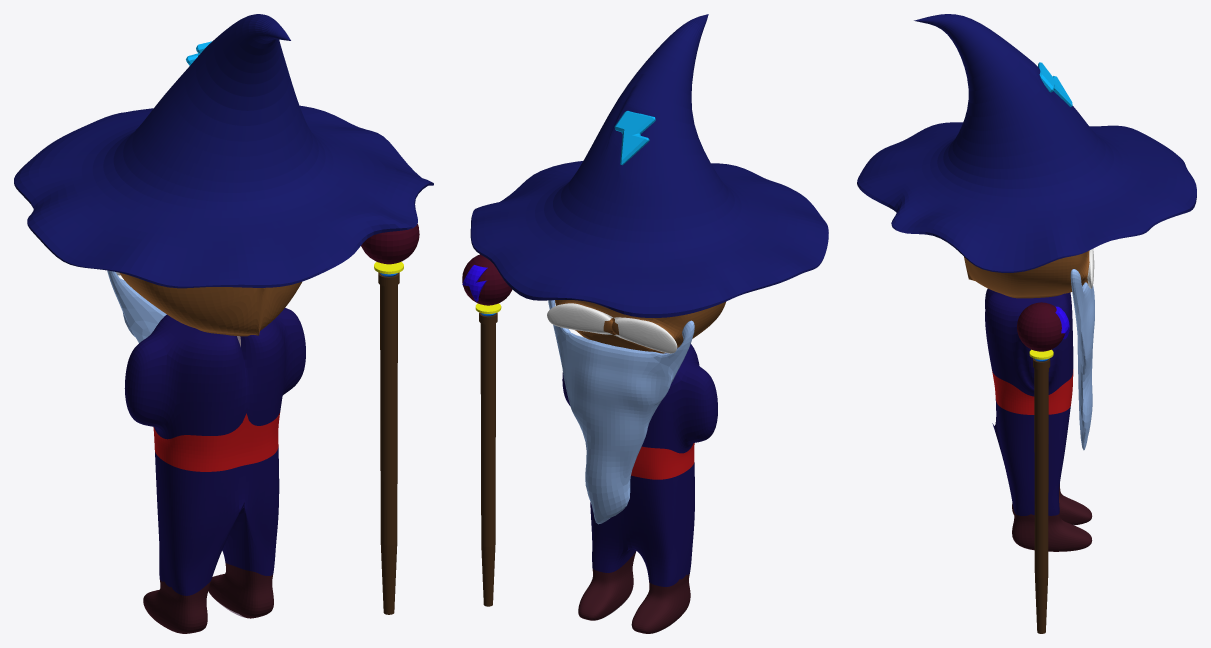
The model's file is WIZARD.obj.
3 renders of one model, left to right at view 1: azimuth 30°, elevation 25°; view 2: azimuth 150°, elevation 25°; view 3: azimuth 270°, elevation 25°, orthographic. The views are drawn at different scales.
Visible parts, largest first — view 1: hat, body, staf, head, beard; view 2: hat, body, beard, staf, head, Cube; view 3: hat, body, staf, head, beard, Cube.
Boxes of the visible parts, x1,y1,x2,y2 form: hat: (14, 14, 433, 288); body: (124, 308, 305, 633); staf: (361, 224, 419, 614); head: (116, 272, 301, 336); beard: (107, 270, 166, 342); hat: (470, 14, 828, 317); body: (562, 343, 717, 633); beard: (548, 300, 694, 524); staf: (462, 254, 512, 606); head: (547, 300, 725, 353); Cube: (614, 111, 655, 165); hat: (857, 14, 1196, 272); body: (985, 288, 1092, 551); staf: (1017, 302, 1069, 633); head: (964, 249, 1094, 298); beard: (1070, 269, 1094, 450); Cube: (1038, 62, 1072, 106).
Bounding box in the file's own units: 4.87 × 8.19 × 4.61.
